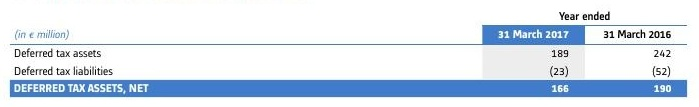table: (0, 0, 699, 107)
